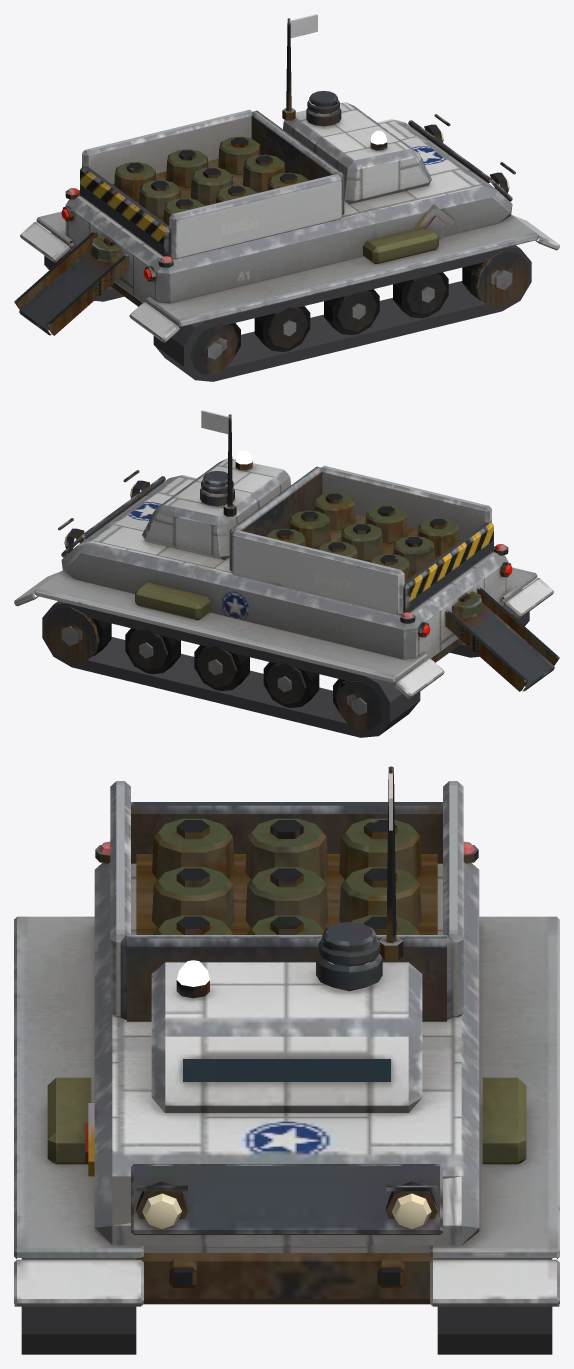
The model's file is mnly.allies.glb.
3 renders of one model, top to bottom at view 1: azimuth 30°, elevation 25°; view 2: azimuth 150°, elevation 25°; view 3: azimuth 270°, elevation 25°, orthographic. The views are drawn at different scales.
Visible parts, largest first — view 1: root_mesh, drop_mesh; view 2: root_mesh, drop_mesh; view 3: root_mesh.
Part boxes in pixels (bbox=[...]): root_mesh: bbox=[14, 14, 559, 381]; drop_mesh: bbox=[91, 235, 121, 262]; root_mesh: bbox=[14, 410, 559, 737]; drop_mesh: bbox=[452, 591, 482, 618]; root_mesh: bbox=[14, 766, 559, 1354].
Size of the model in its own units: 0.9659 by 0.503 by 0.525.
3 materials, 1 textured.
